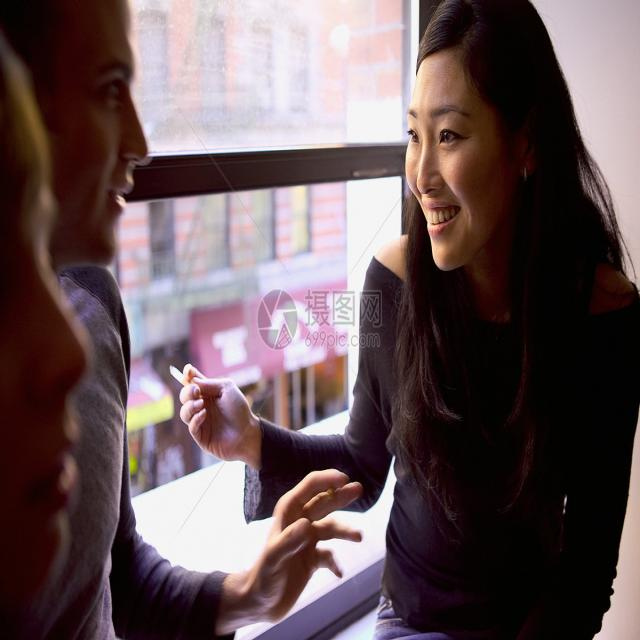cigarette: (166, 358, 186, 388)
